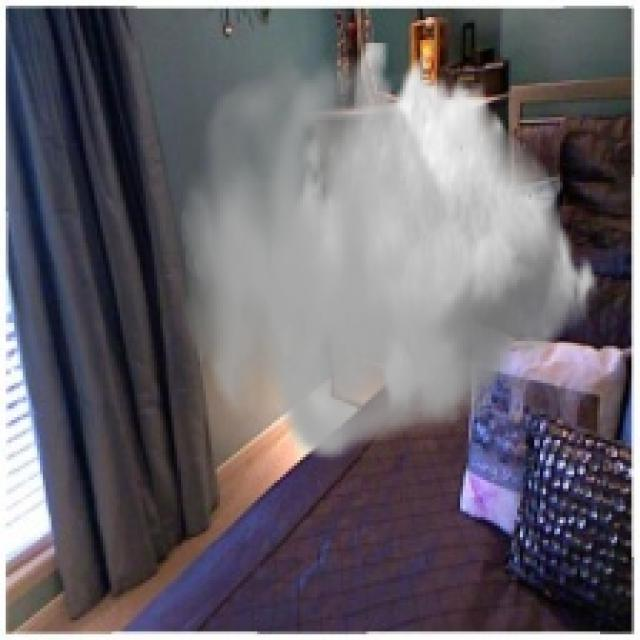Smoke: (180, 43, 600, 466)
